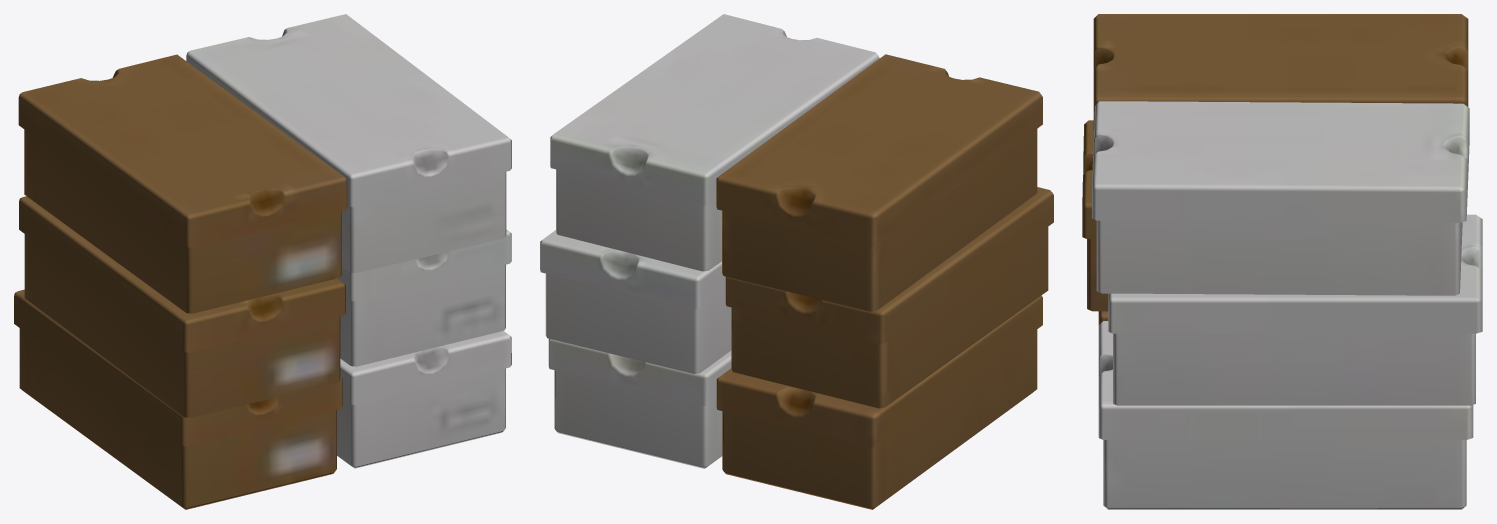
The picture shows the model from 3 angles, left to right: view 1: azimuth 30°, elevation 25°; view 2: azimuth 150°, elevation 25°; view 3: azimuth 270°, elevation 25°; orthographic projection. The views are drawn at different scales.
Size of the model in its own units: 8.66 by 7.3 by 8.1.
Materials: 1 (1 with a texture image).
